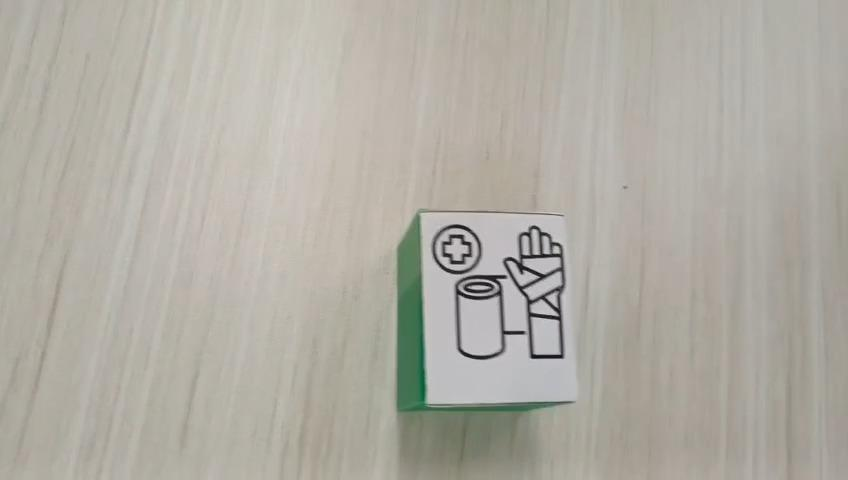Bandages: (396, 208, 578, 411)
